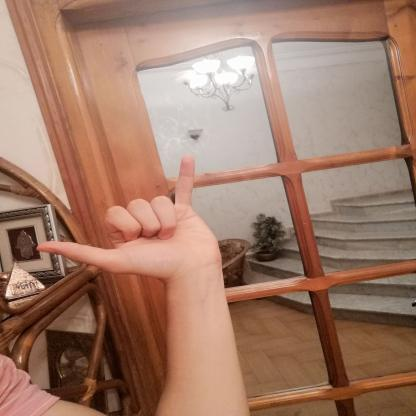YA: (19, 144, 242, 292)
